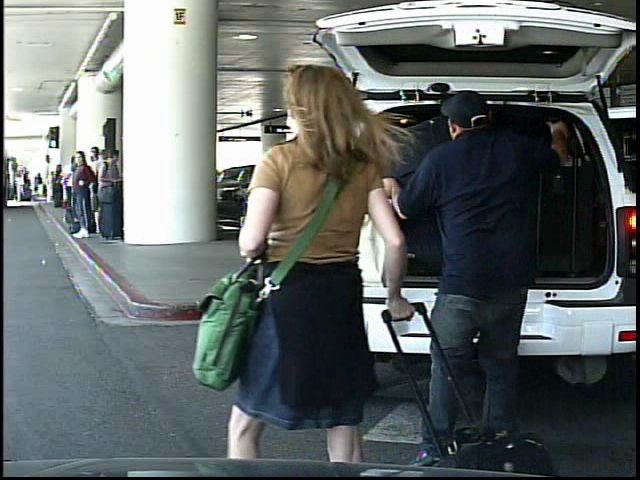person: (230, 57, 415, 469), (404, 86, 559, 434), (15, 174, 26, 205), (35, 172, 46, 200)
